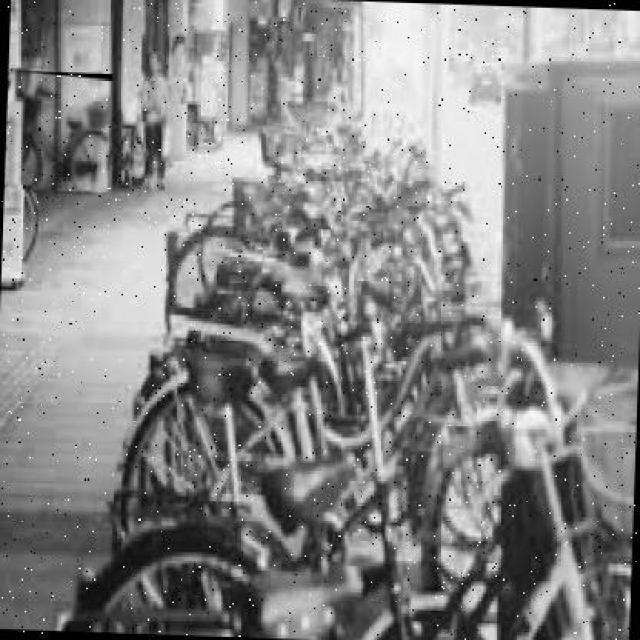bicycle: (7, 73, 115, 196)
